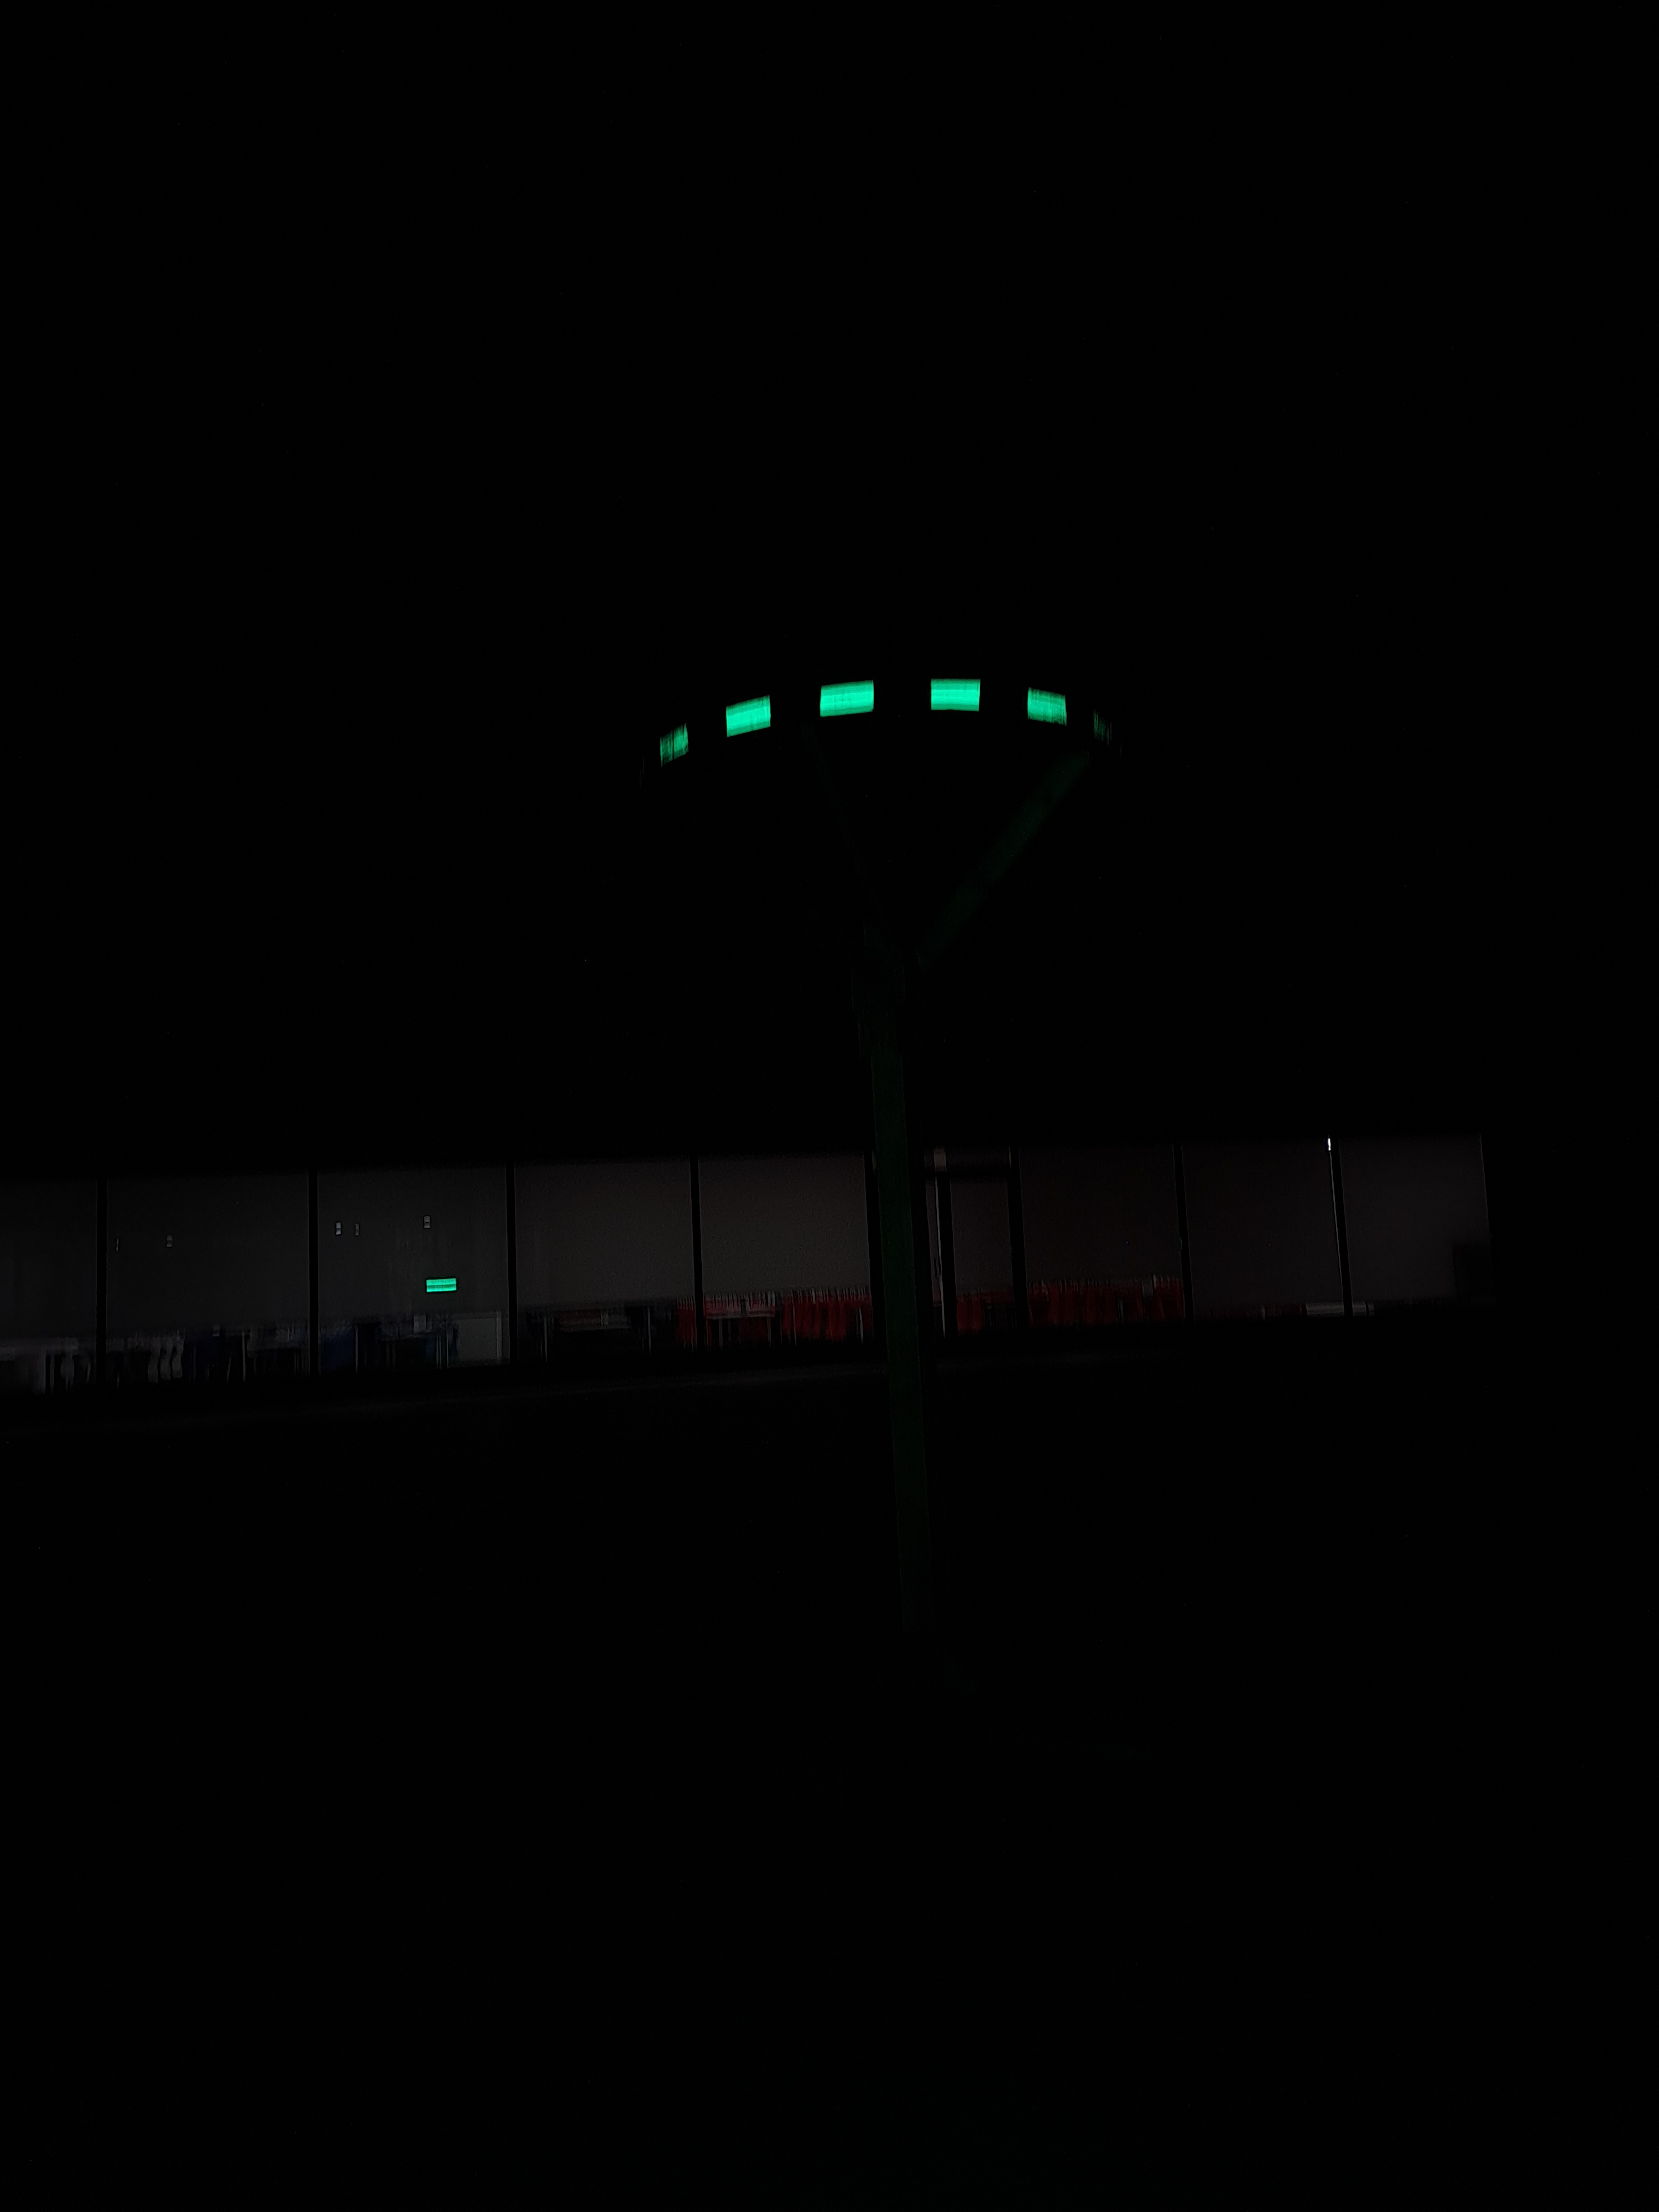hoop: (627, 667, 1114, 770)
